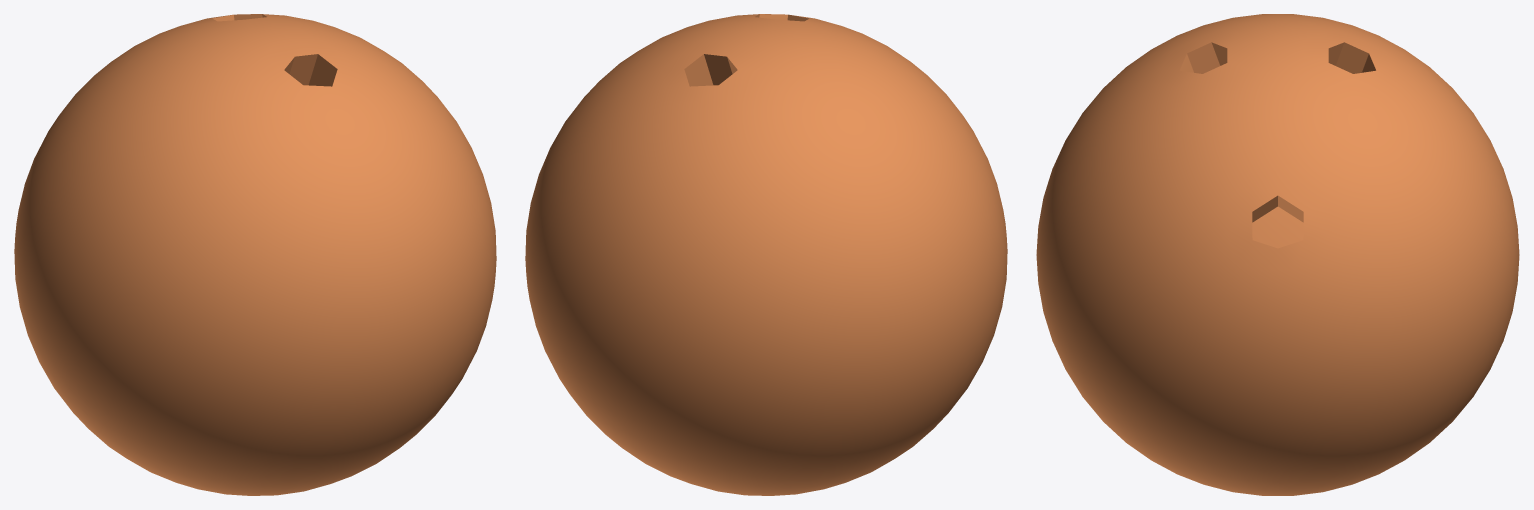
The model's file is BowlingBall.obj.
3 renders of one model, left to right at view 1: azimuth 30°, elevation 25°; view 2: azimuth 150°, elevation 25°; view 3: azimuth 270°, elevation 25°, orthographic.
Parts seen in each view (by area): view 1: BowlingBall; view 2: BowlingBall; view 3: BowlingBall.
Boxes of the visible parts, x1=… form: BowlingBall: x1=14, y1=14, x2=496, y2=495; BowlingBall: x1=525, y1=14, x2=1007, y2=495; BowlingBall: x1=1036, y1=14, x2=1519, y2=495.
Size of the model in its own units: 0.2176 by 0.218 by 0.218.
